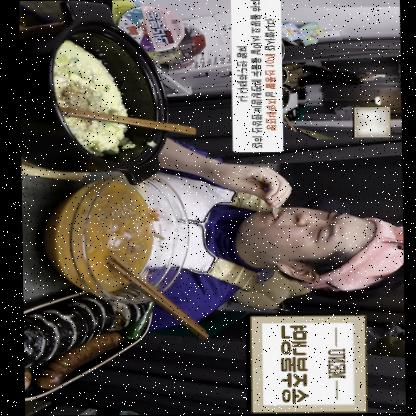donation: (232, 0, 282, 151)
streamer: (146, 133, 404, 328)
